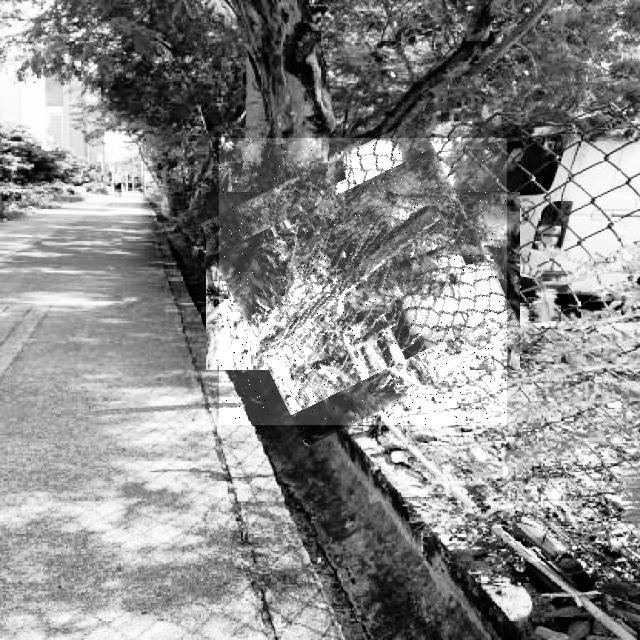anomaly-fence: (219, 138, 507, 425)
